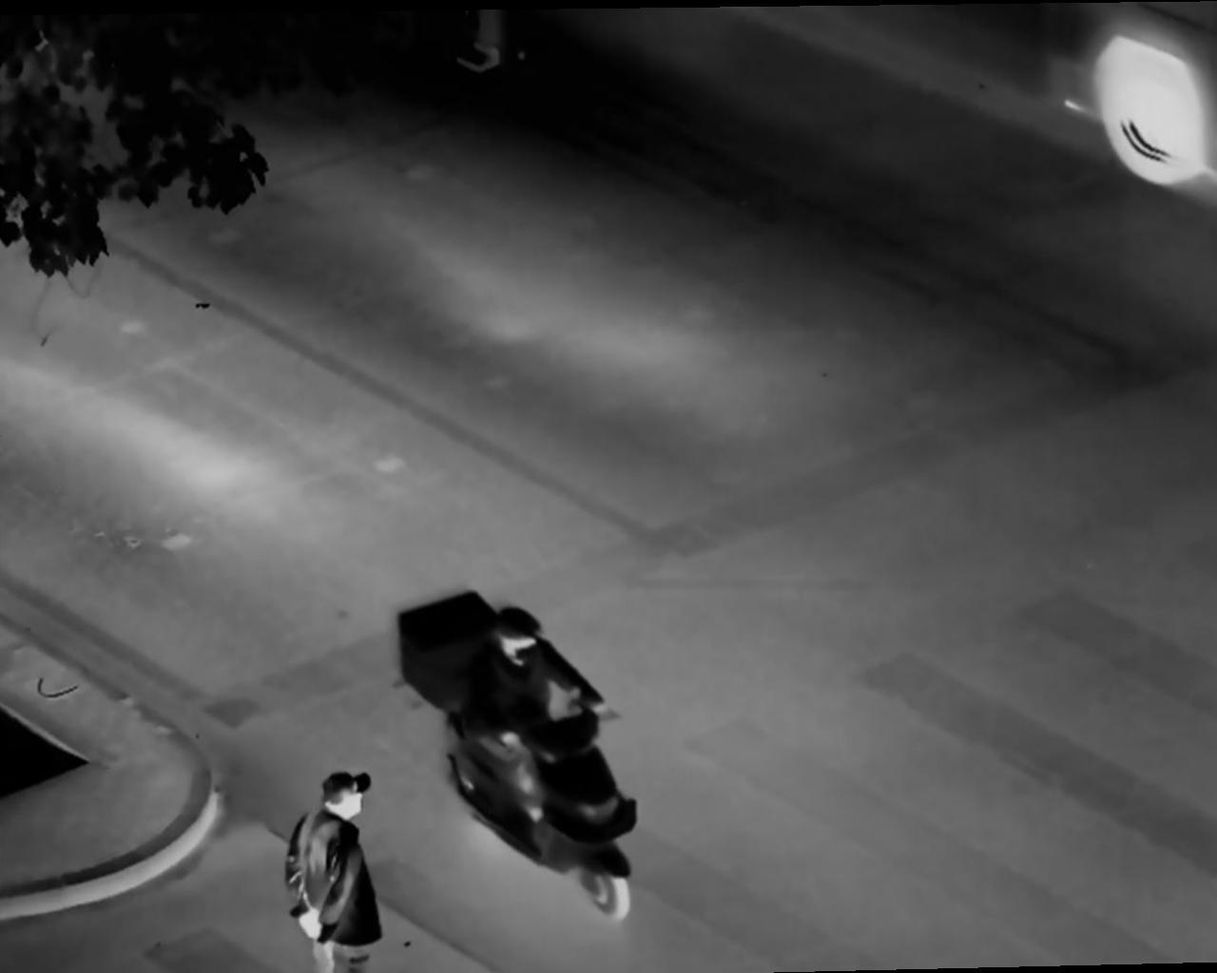person: (477, 599, 617, 805), (278, 771, 389, 973)
